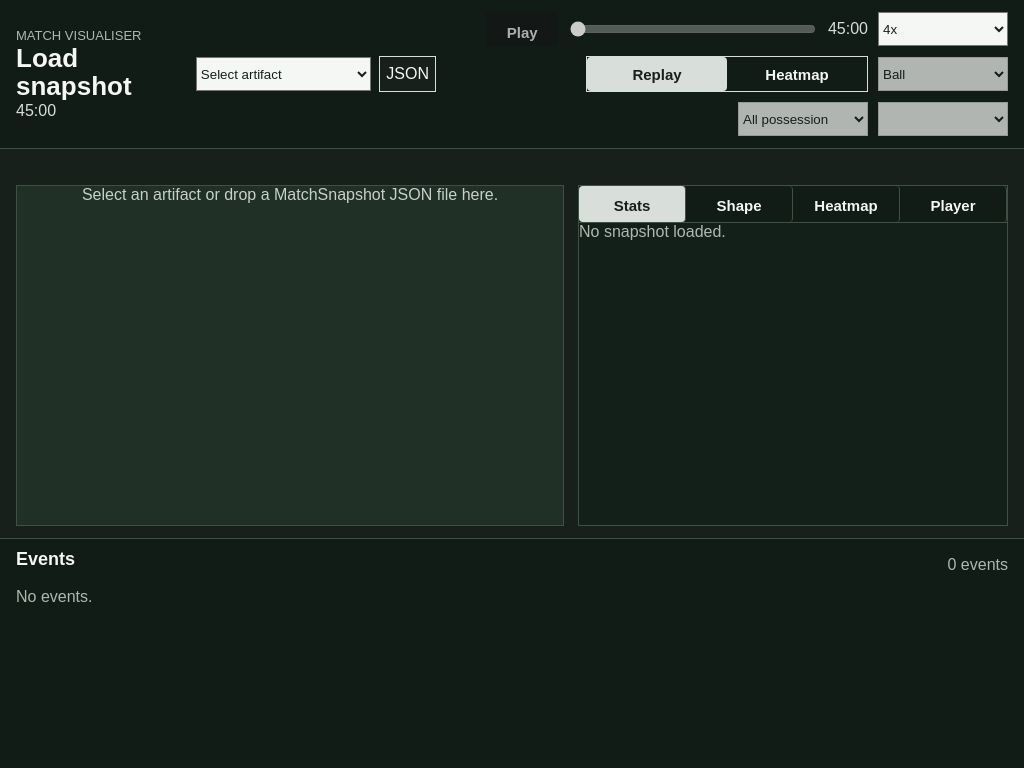
Test case: VisualiserPage › loads snapshots from the artifact browser
Select "representative-seed-1-v2.json" in the dropdown named "Snapshot artifact" at (284, 74), box x1=196 y1=57 x2=371 y2=91
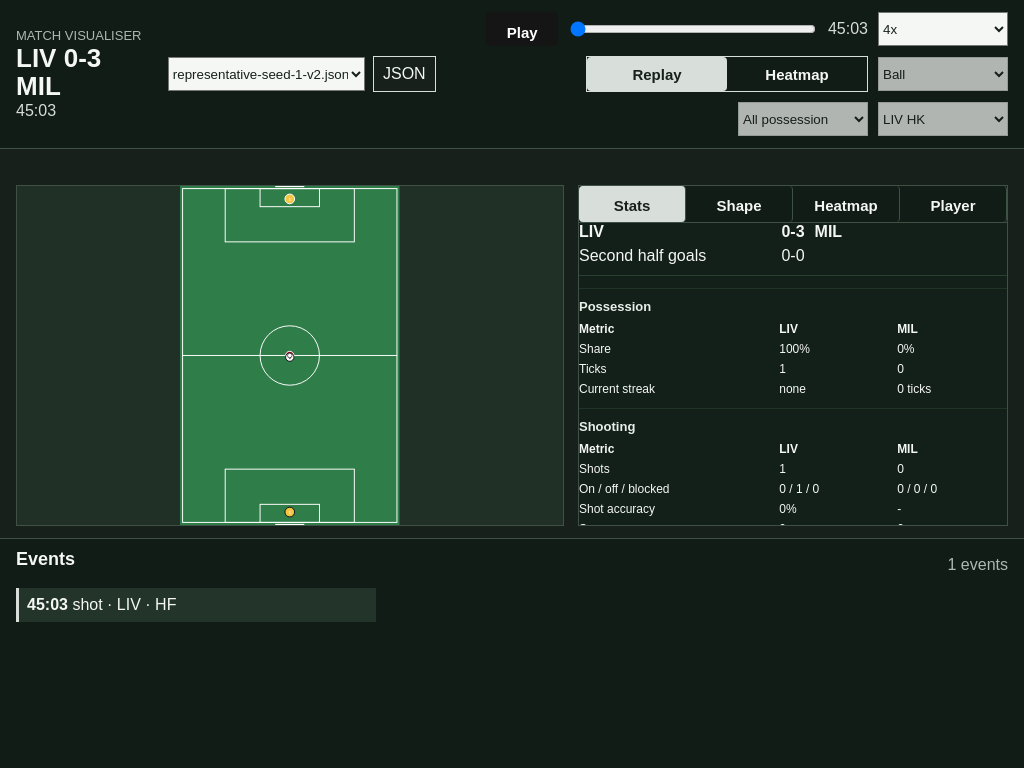
Expected: the heading "LIV 0-3 MIL" is shown, x1=16 y1=43 x2=101 y2=100
